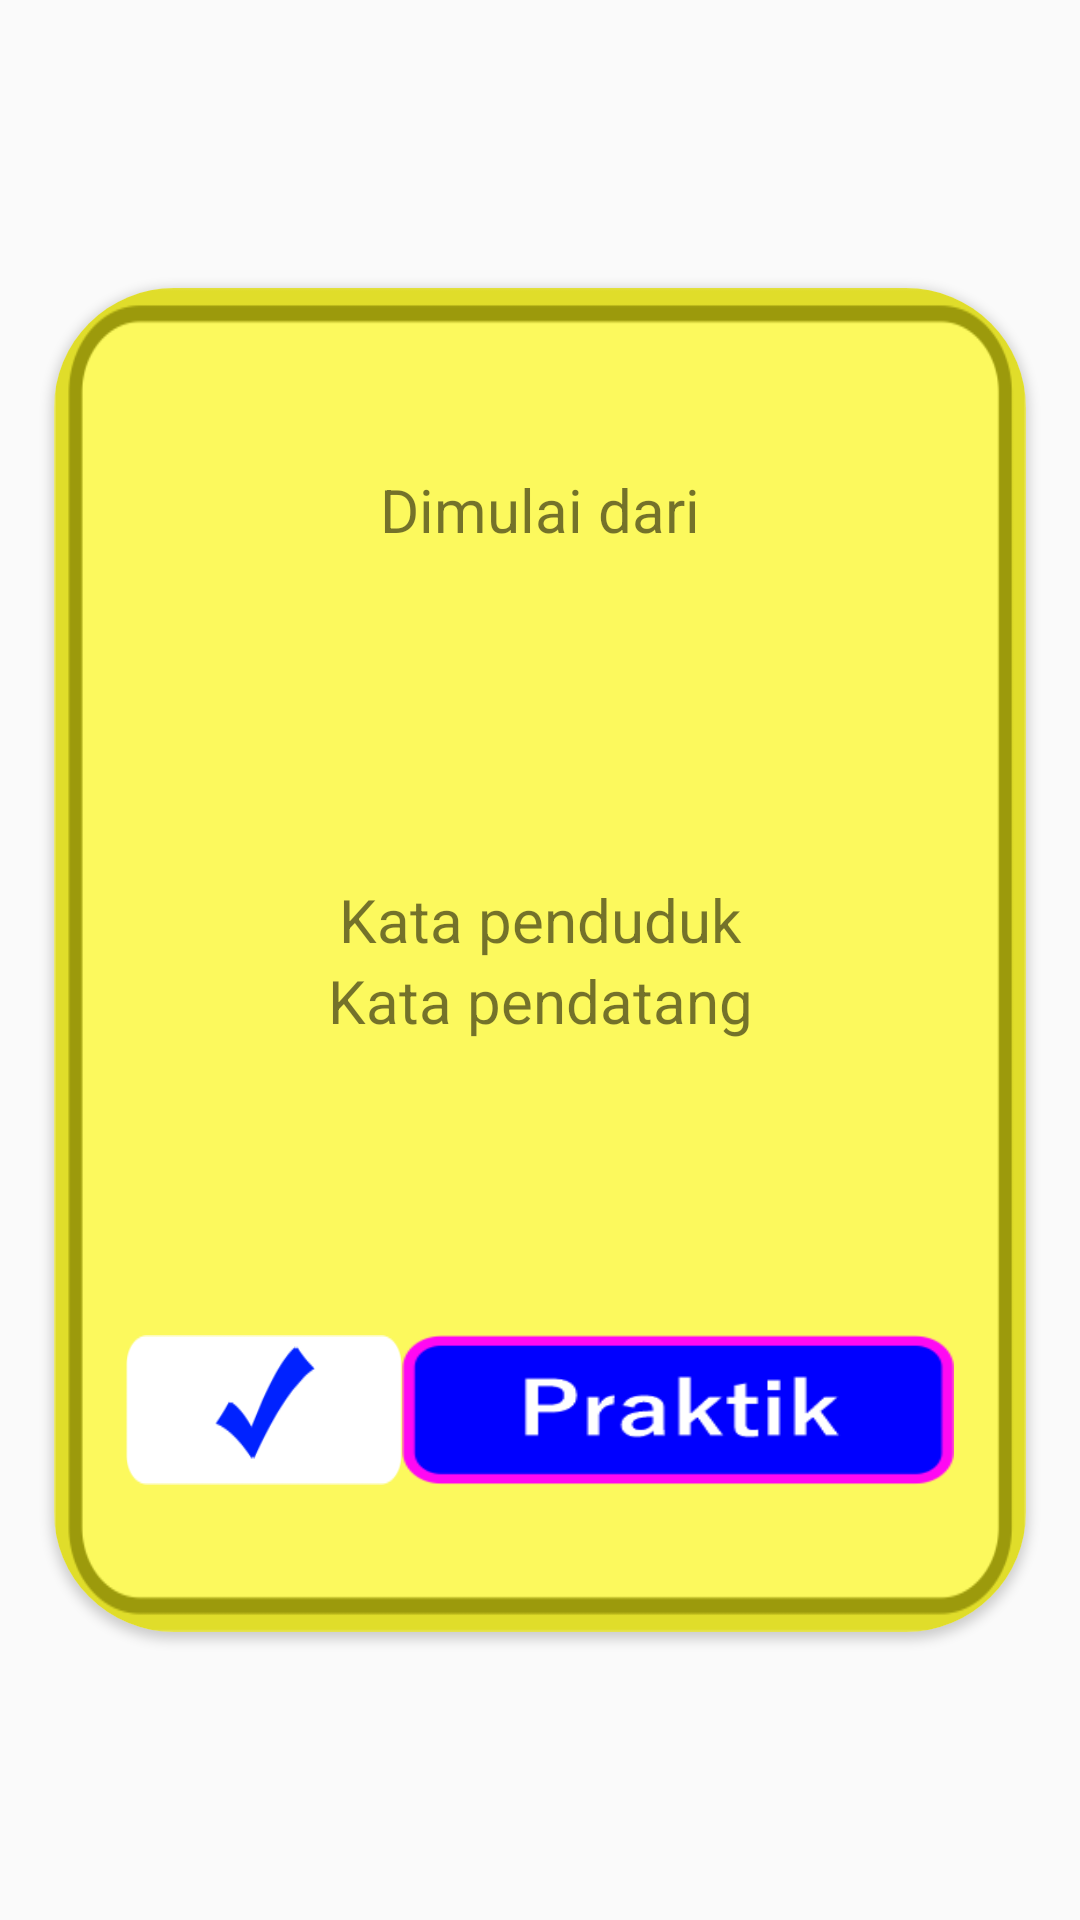

Named icons in this screenshot (1080*1920) and their centers, (x=x, y=y):
checklis: (x=264, y=1410)
